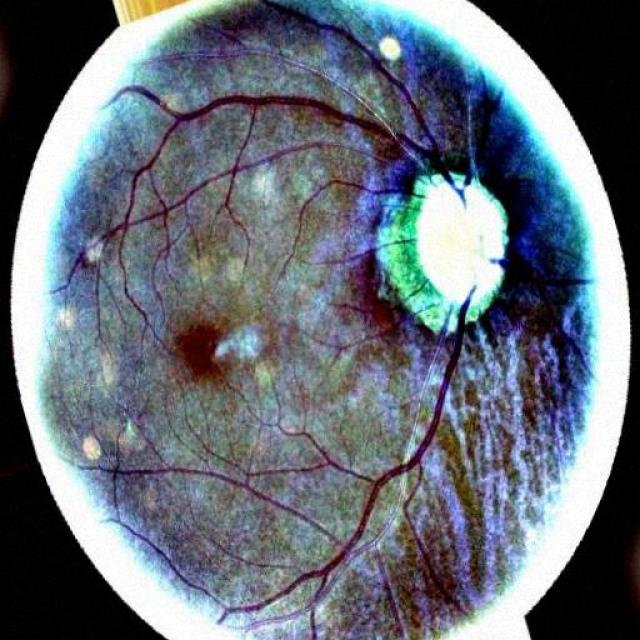Macula: (176, 322, 221, 380)
Nerves: (51, 0, 478, 349), (79, 284, 476, 639), (295, 180, 399, 240)
Optic Disk: (416, 180, 506, 305)
